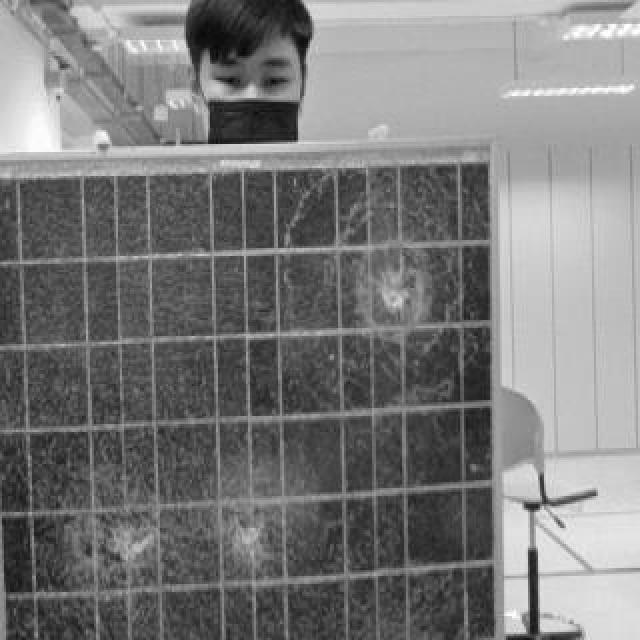Physical-damage: (260, 159, 490, 428), (30, 436, 337, 608)
